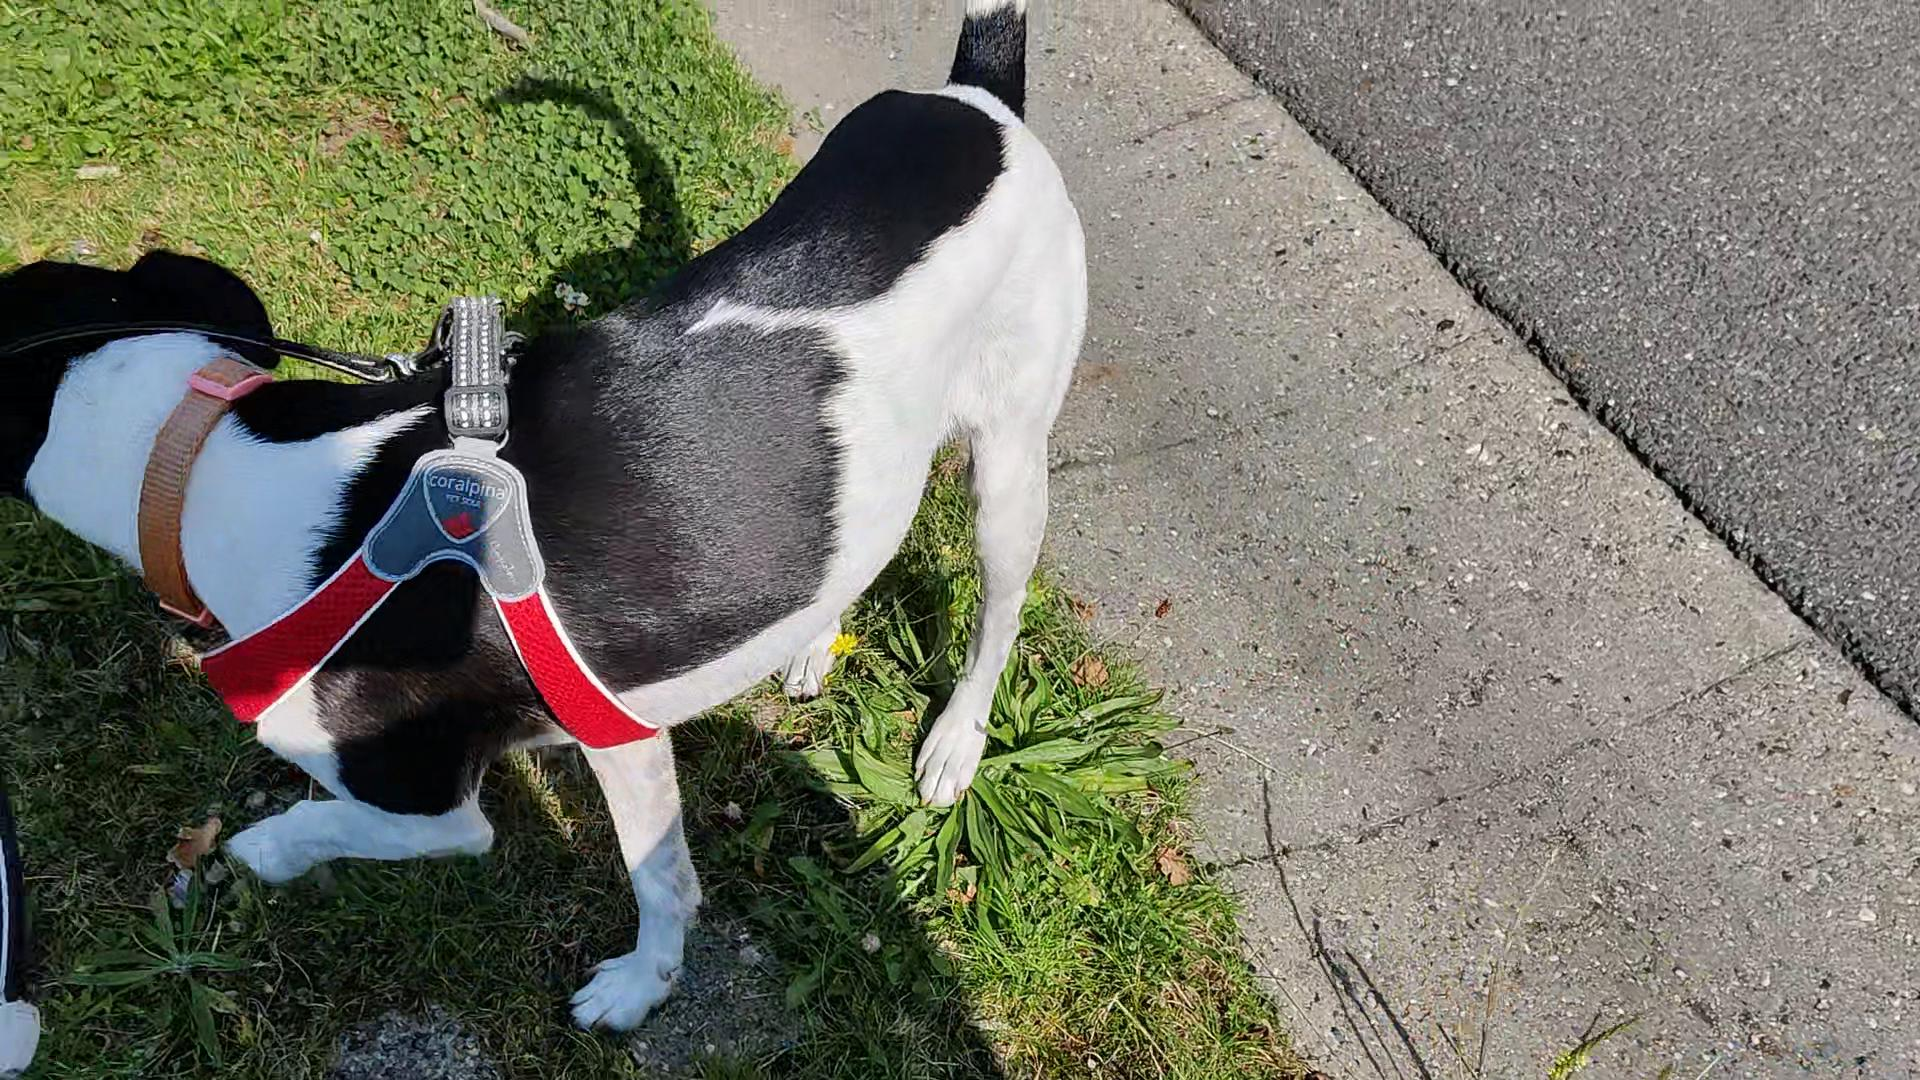Dog: (0, 0, 1137, 1036)
